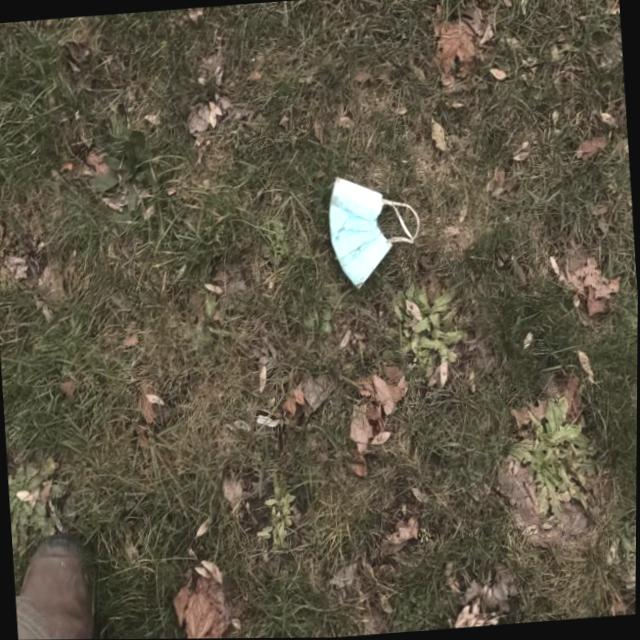Mask: (329, 166, 426, 287)
